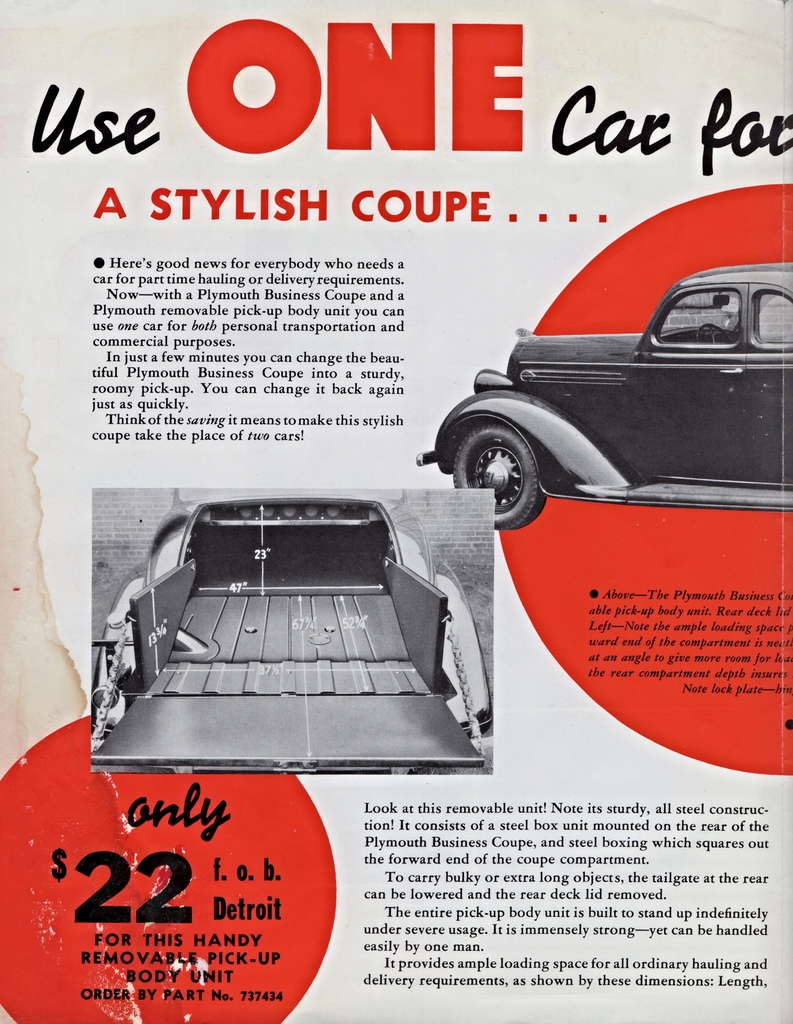Car: (415, 263, 792, 533)
